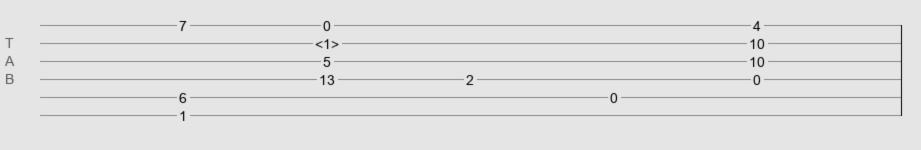0: (323, 18, 331, 28), (610, 90, 618, 100), (753, 72, 761, 82)
1: (179, 108, 187, 118)
10: (749, 54, 765, 64), (749, 36, 765, 46)
13: (319, 72, 335, 82)
2: (466, 72, 474, 82)
4: (753, 18, 761, 28)
5: (323, 54, 331, 64)
6: (179, 90, 187, 100)
7: (179, 18, 187, 28)
harmonic: (315, 36, 339, 46)
